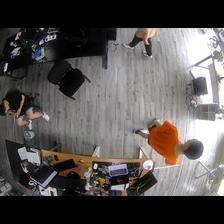normal: (133, 116, 201, 163), (122, 28, 156, 59)
